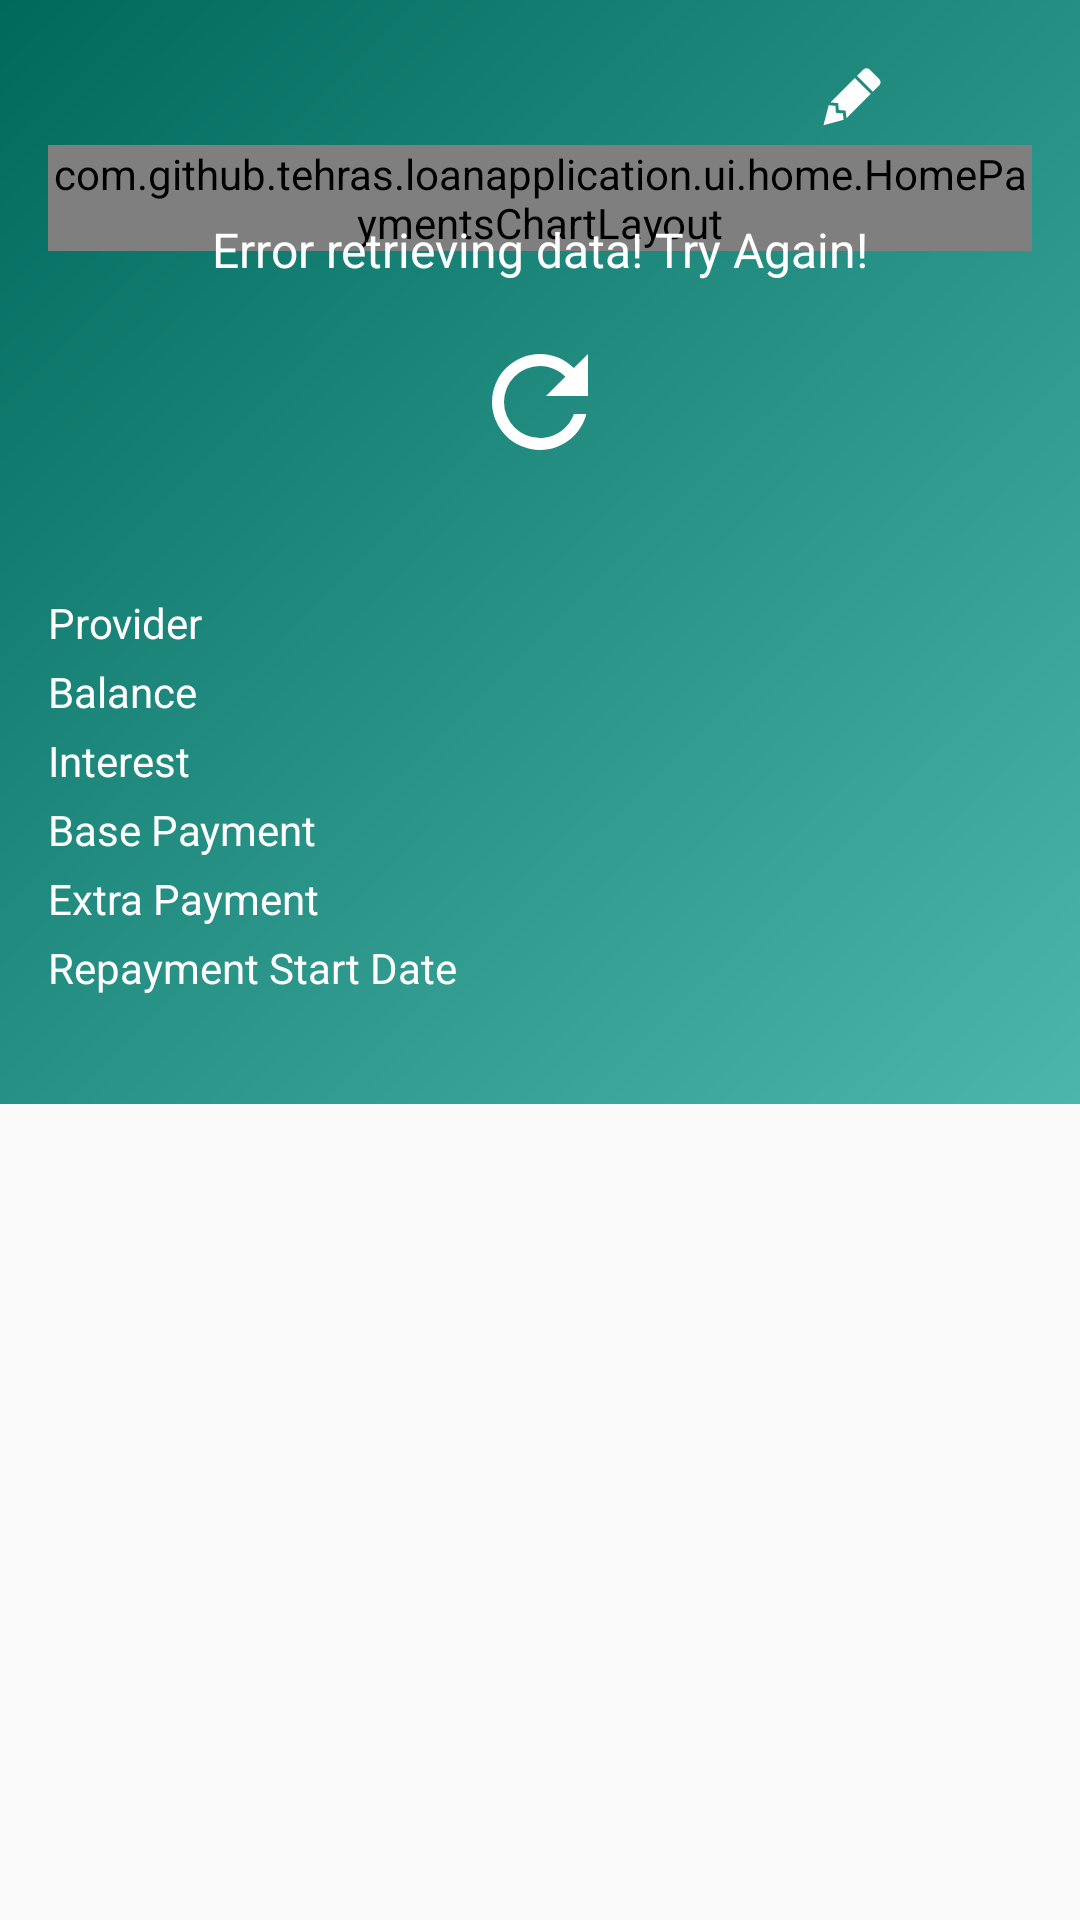

Icon bounding boxes for this 1080 × 1920 phone screenshot, format box(x1, y1, x2, y2):
edit: box(823, 68, 881, 125)
refresh: box(492, 354, 588, 450)
